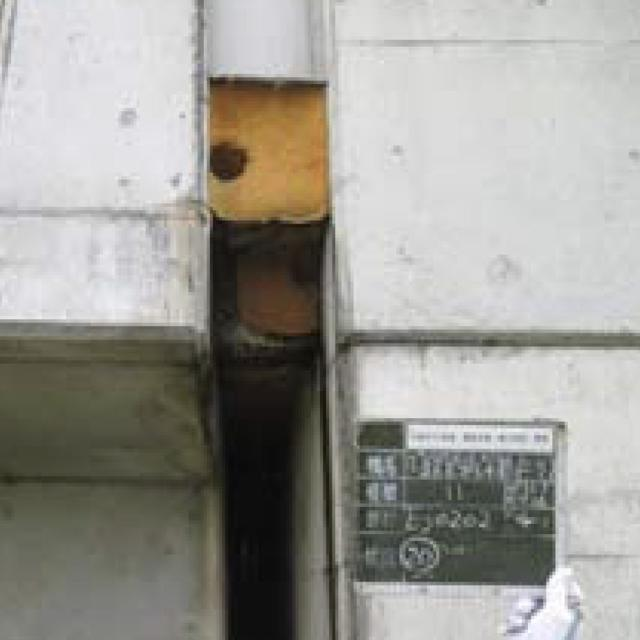leakage: (190, 65, 330, 636)
